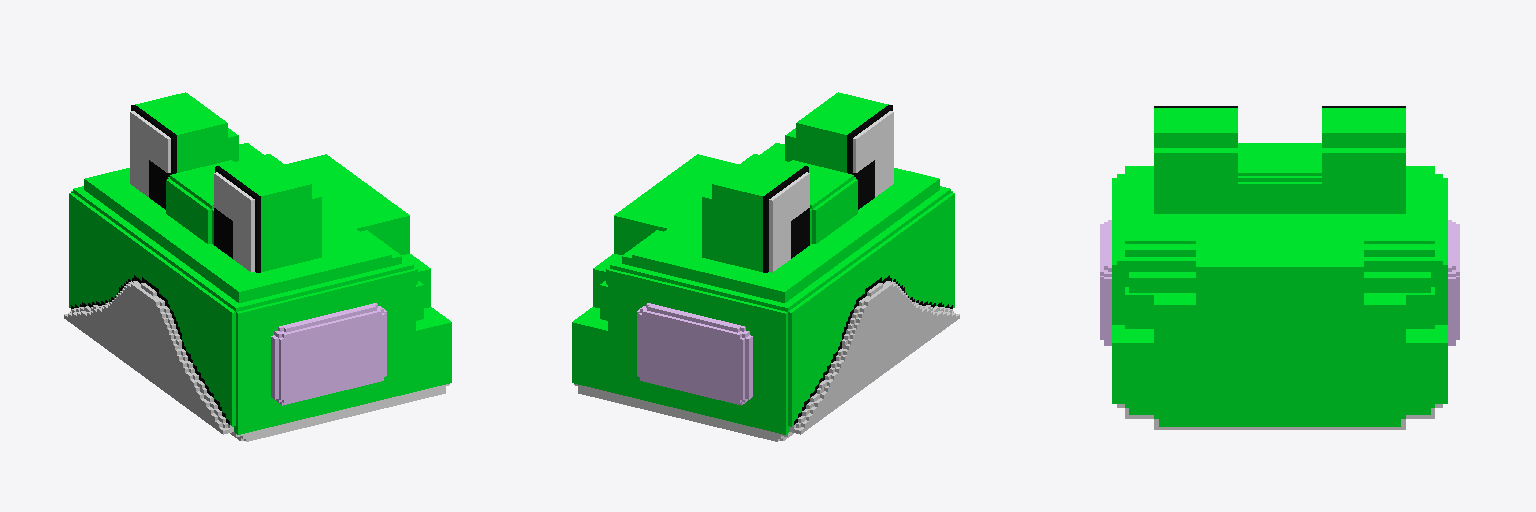
The picture shows the model from 3 angles: view 1: azimuth 30°, elevation 25°; view 2: azimuth 150°, elevation 25°; view 3: azimuth 270°, elevation 25°; orthographic projection.
Parts seen in each view (by area): view 1: object 1; view 2: object 1; view 3: object 1.
Part boxes in pixels (x1,y1,x2,y2): object 1: (64,92,451,441); object 1: (572,92,959,441); object 1: (1100,106,1459,429).
Size of the model in its own units: 6.2 by 6.3 by 8.6.
Materials: 1 (1 with a texture image).